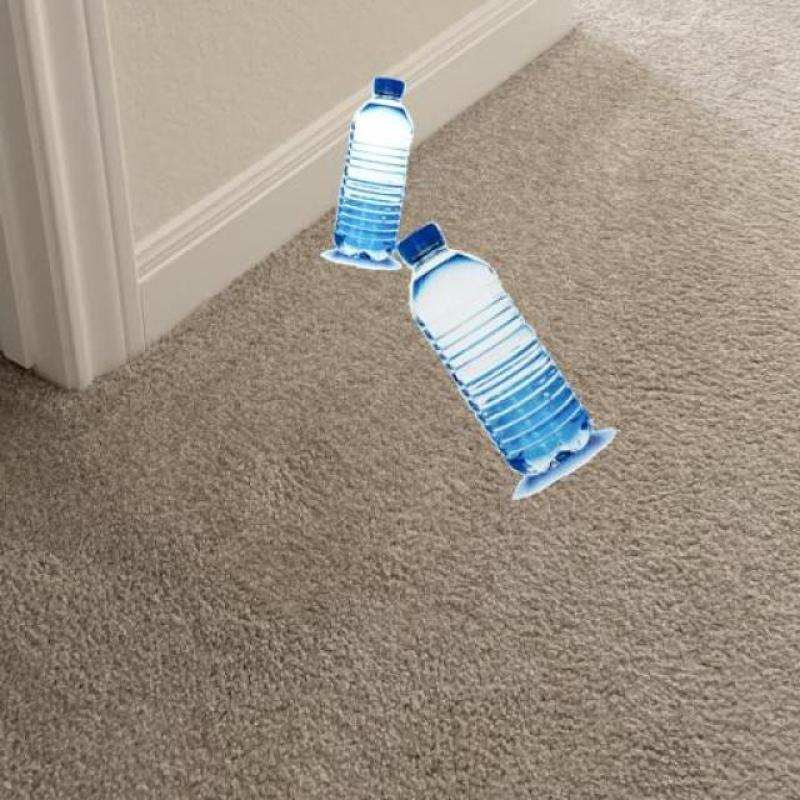botella: (395, 222, 594, 477), (331, 78, 414, 260)
